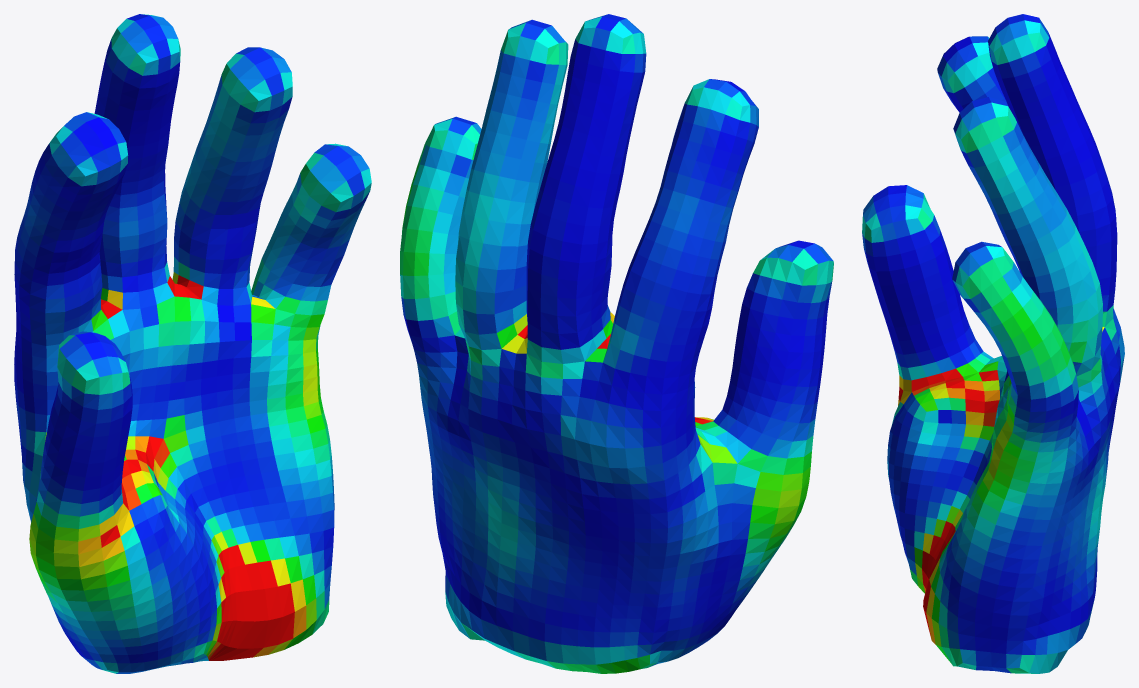
Rendered from hand_no_opt_quality.obj.
The picture shows the model from 3 angles, left to right: view 1: azimuth 30°, elevation 25°; view 2: azimuth 150°, elevation 25°; view 3: azimuth 270°, elevation 25°; orthographic projection. The views are drawn at different scales.
Bounding box in the file's own units: 25.49 × 43.54 × 17.4.
